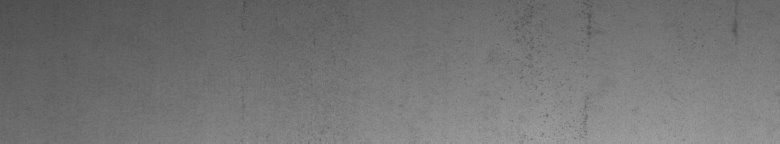ib: (514, 4, 600, 124)
